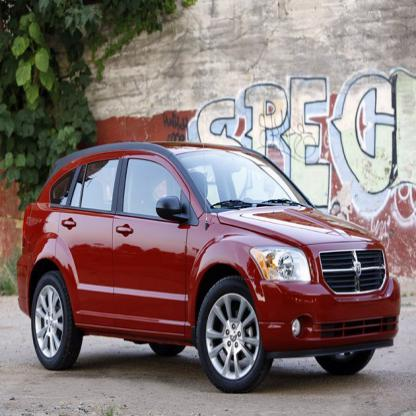Vehicle: (16, 143, 401, 396)
